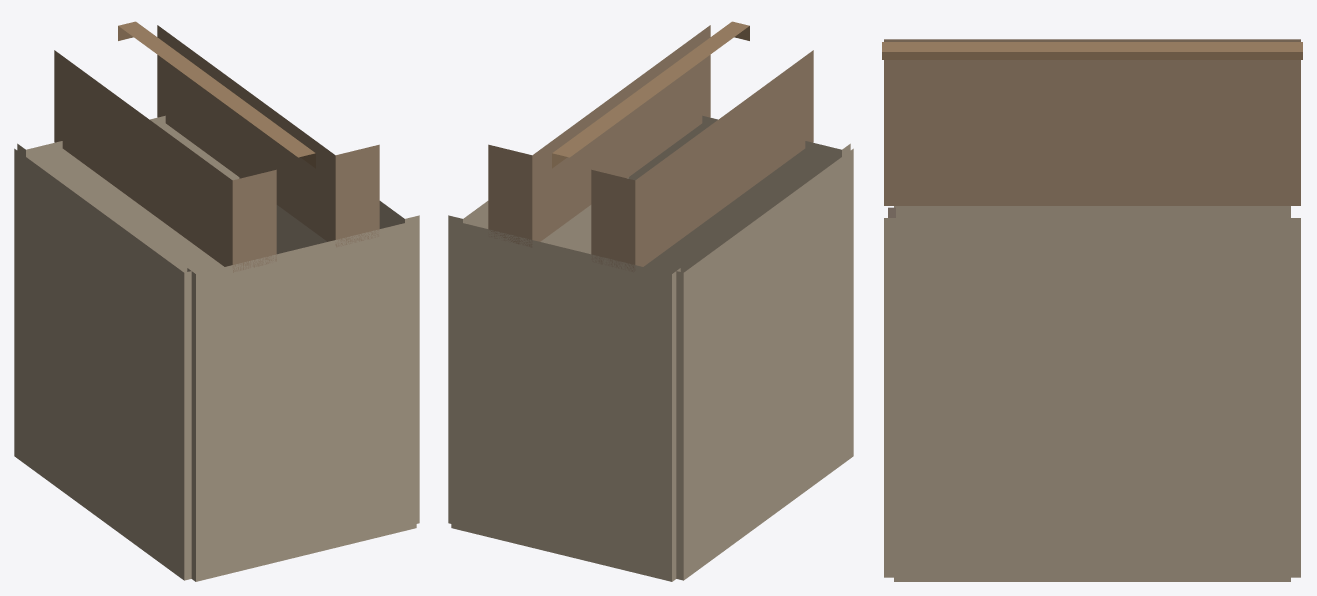
Rendered from shed.glb.
The picture shows the model from 3 angles, left to right: view 1: azimuth 30°, elevation 25°; view 2: azimuth 150°, elevation 25°; view 3: azimuth 270°, elevation 25°; orthographic projection. The views are drawn at different scales.
Size of the model in its own units: 1.6 by 2.6 by 2.12.
